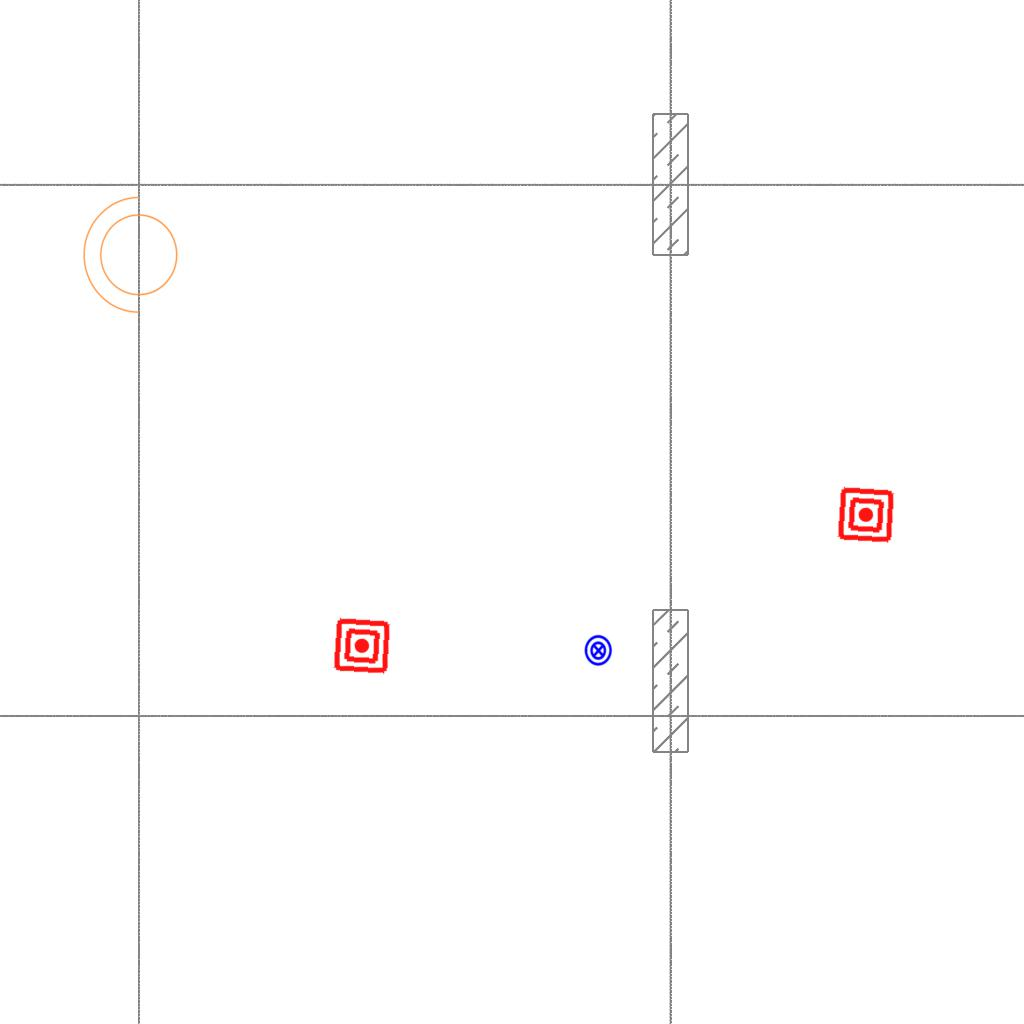NAM-Nichtautomatischer_Melder: (332, 616, 392, 676), (836, 485, 896, 545)
Scheinwerfer_fuer_Alarmbeleuchtung: (78, 192, 190, 324)
Taster_beleuchtet: (582, 634, 615, 667)
